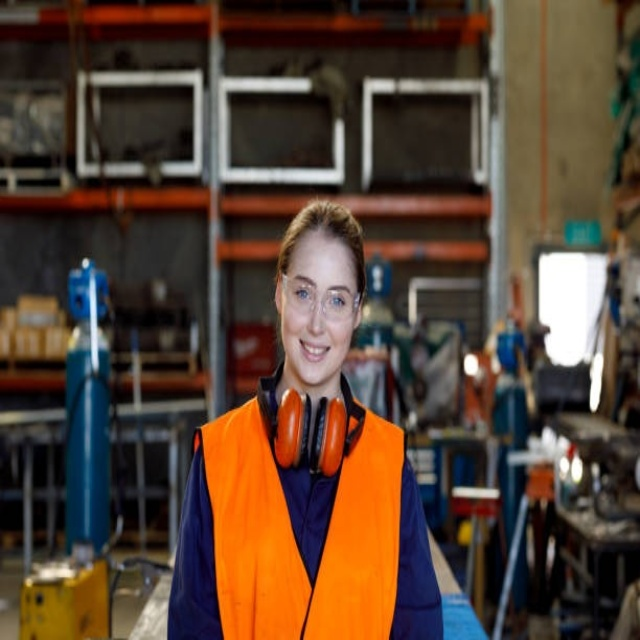Gafas: (282, 273, 361, 324)
Sin_mascara: (296, 336, 335, 381)
